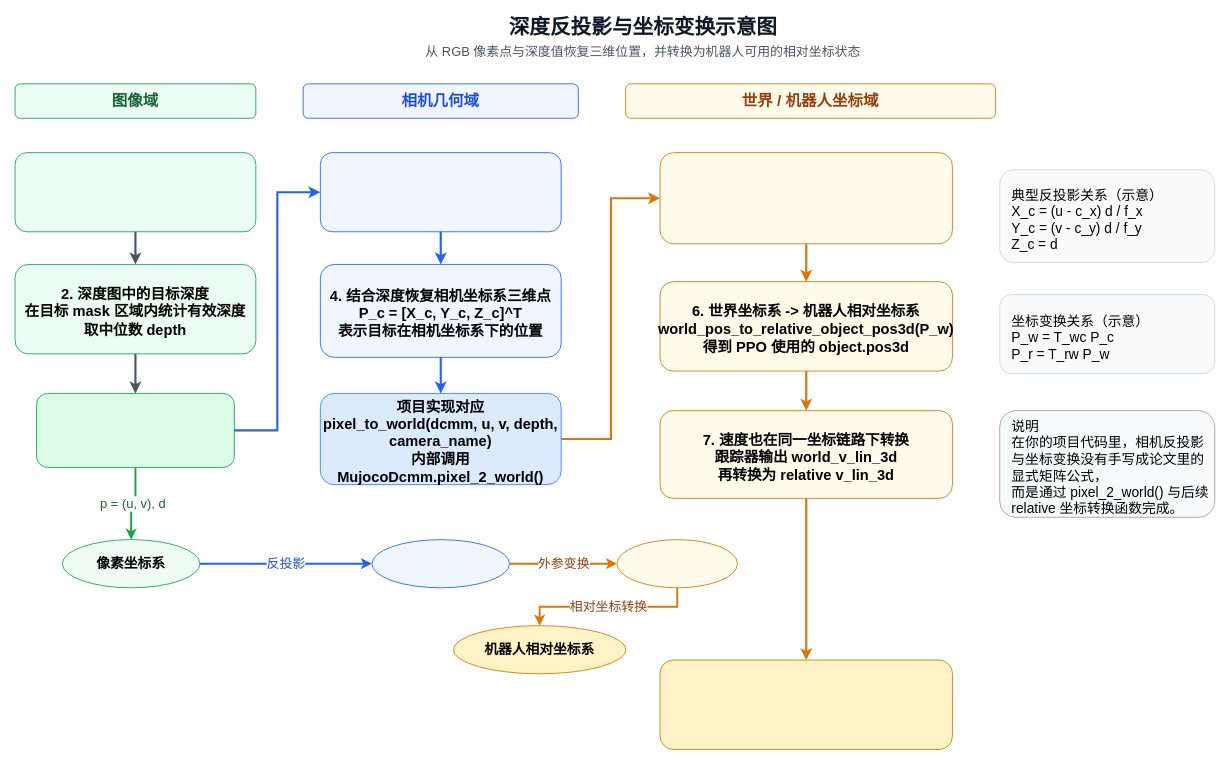
The diagram is 1230 pixels wide and 765 high, and some of its shapes have lost their labels. Each missing label, with the box of its shape:
1. RGB 图像中的目标像素 检测器输出目标 mask 与质心 (u, v): (14, 152, 256, 232)
3. 像素反投影到相机射线 根据相机内参把像素点恢复为视线方向: (319, 152, 561, 232)
5. 相机坐标系 -> 世界坐标系 根据相机外参与当前相机位姿 得到世界坐标下三维点 P_w: (659, 152, 952, 244)
8. 最终送入 PPO 观测 object.pos3d, object.v_lin_3d 与 ee/base/arm 状态一起组成 obs: (659, 659, 952, 749)
世界坐标系: (616, 539, 737, 588)
相机坐标系: (371, 539, 510, 588)
输入量 像素坐标：p = (u, v) 深度值：d: (36, 393, 234, 467)
